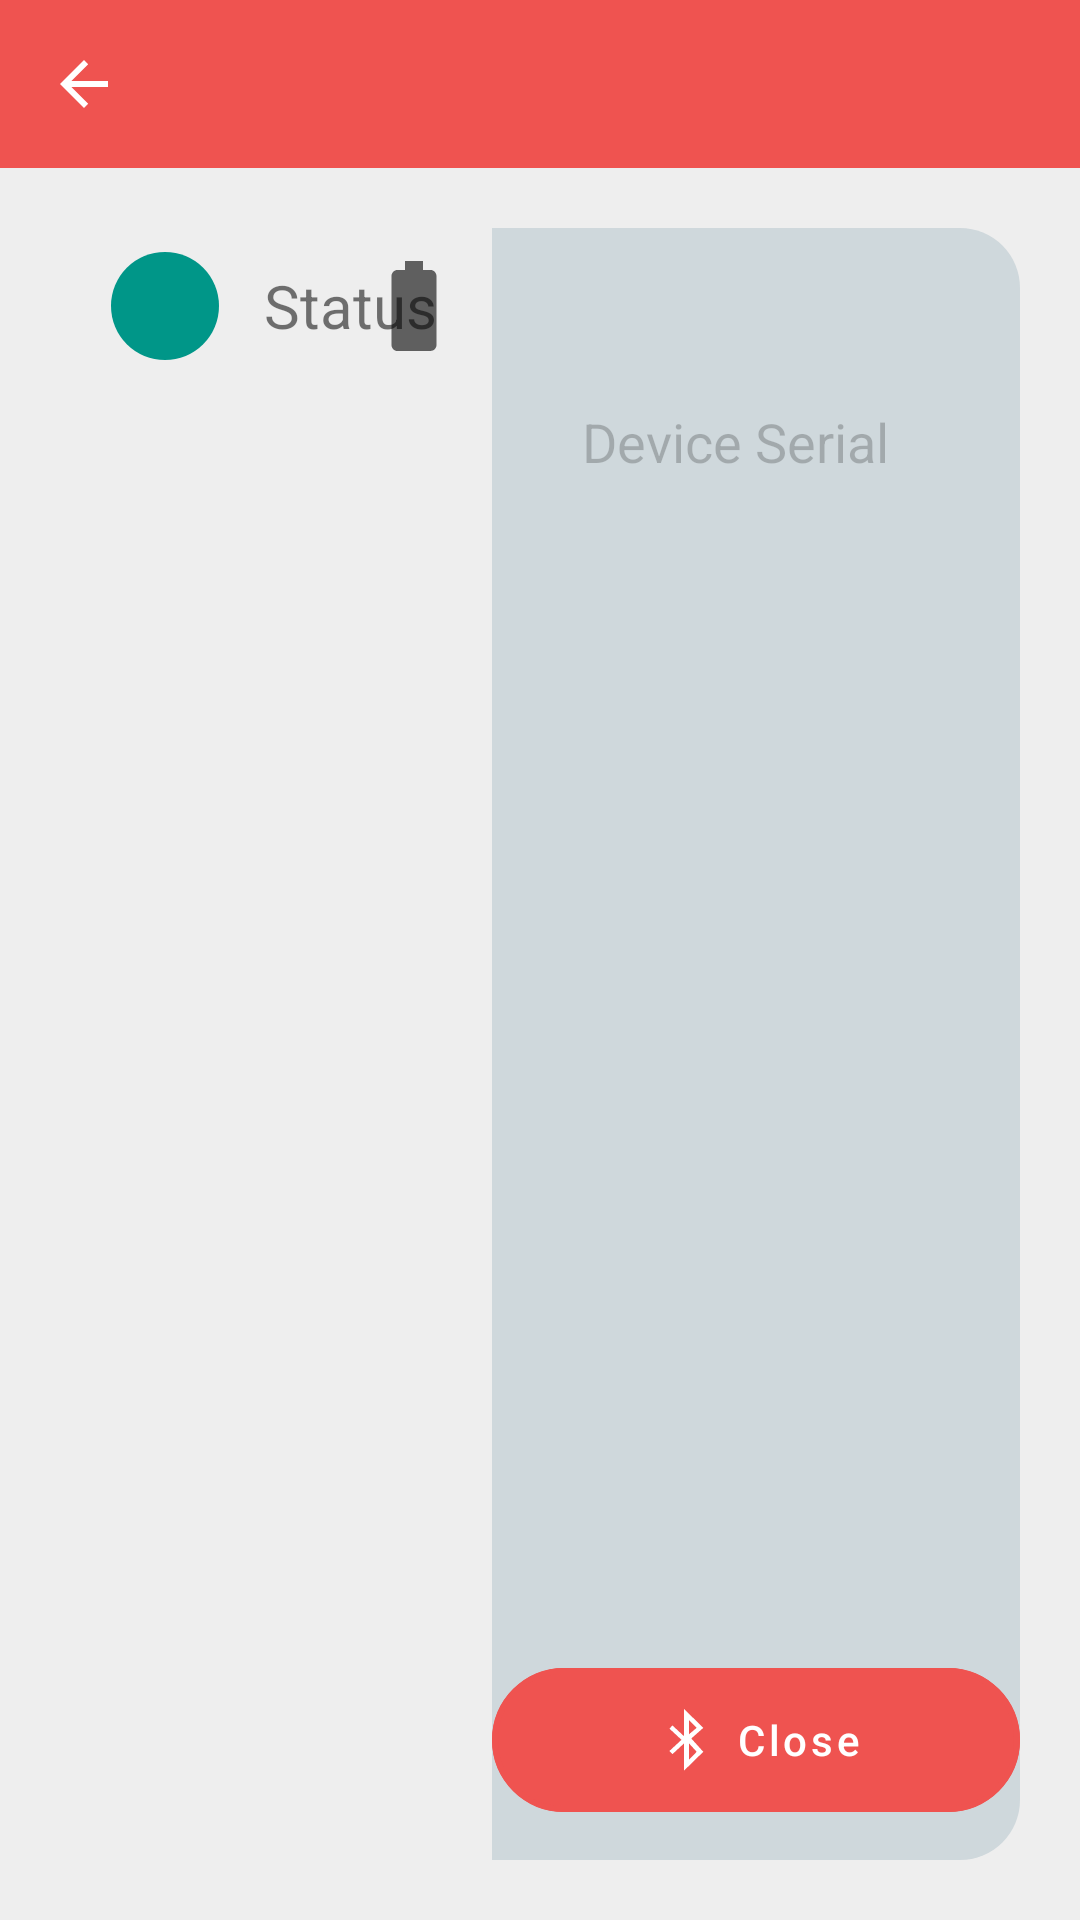

Locate icon controls on the screen. Image size 1080px x 1920px, boxes as {"x1": x1, "y1": y1, "x2": x2, "y2": y2}.
Device Battery Image: {"x1": 377, "y1": 261, "x2": 437, "y2": 351}
